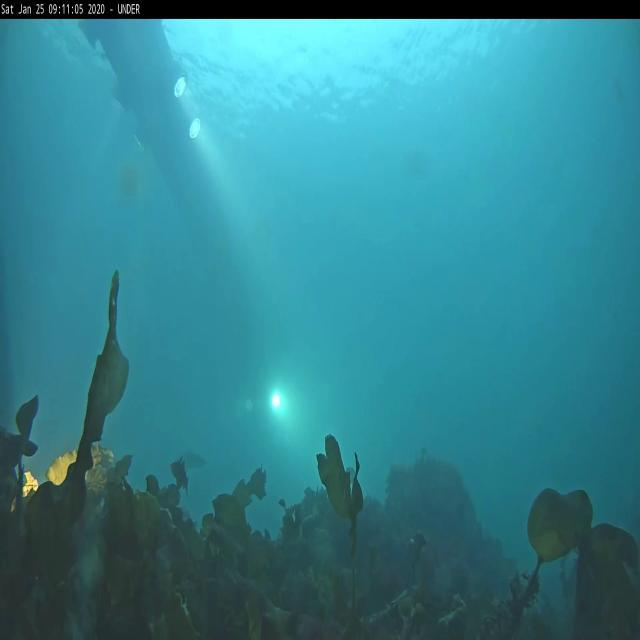fish: (167, 458, 192, 493), (178, 446, 208, 474)
